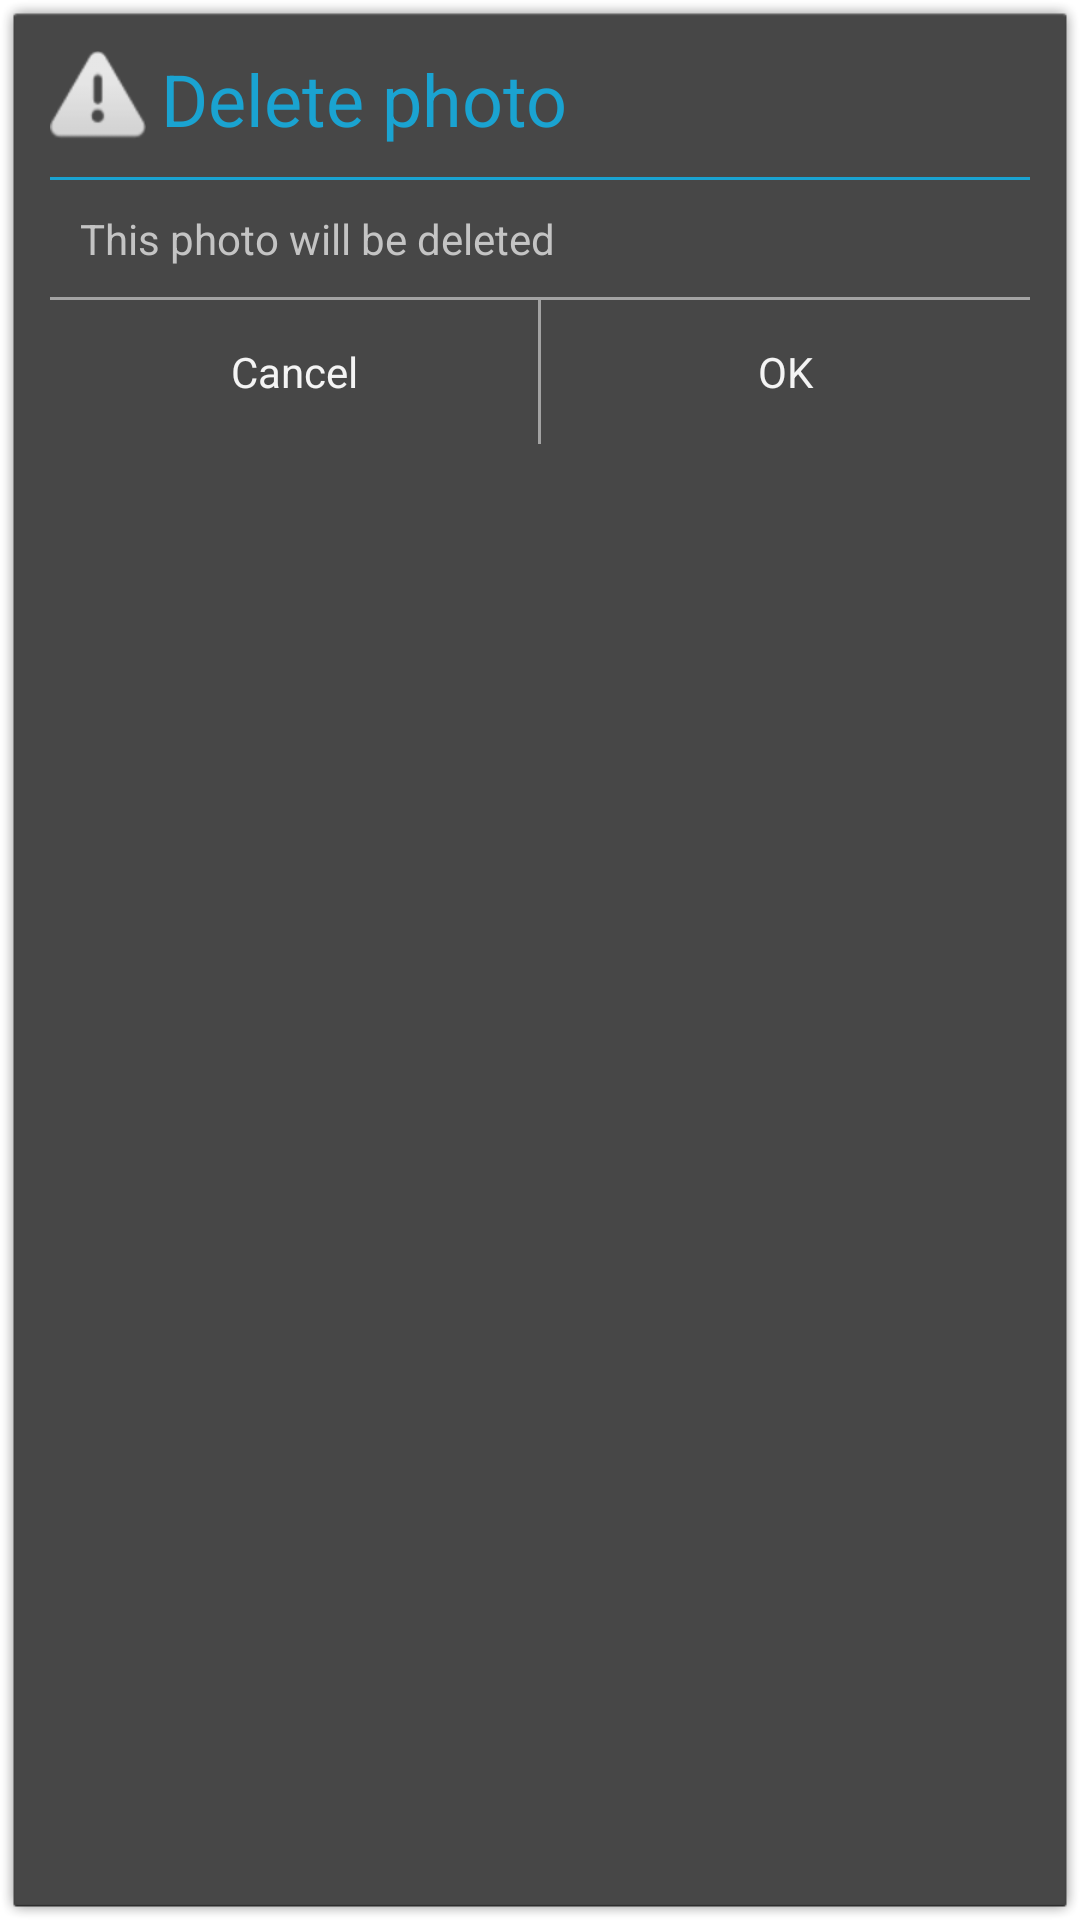

Where to tap for icons on this 1080×1920 app screen, as point (x, y):
alert: point (98, 94)
